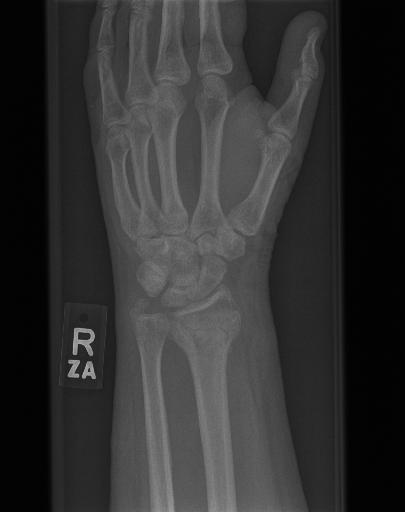fractured: (166, 314, 251, 360)
